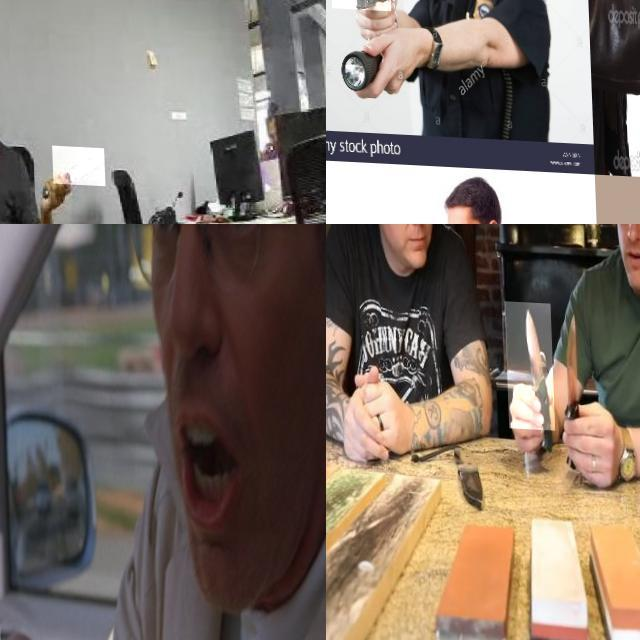-: (552, 300, 614, 444), (502, 298, 552, 427), (49, 142, 102, 182)
gun-knife-thesis - v11 Yolov5 augmented: (0, 527, 93, 640), (328, 0, 389, 34)
